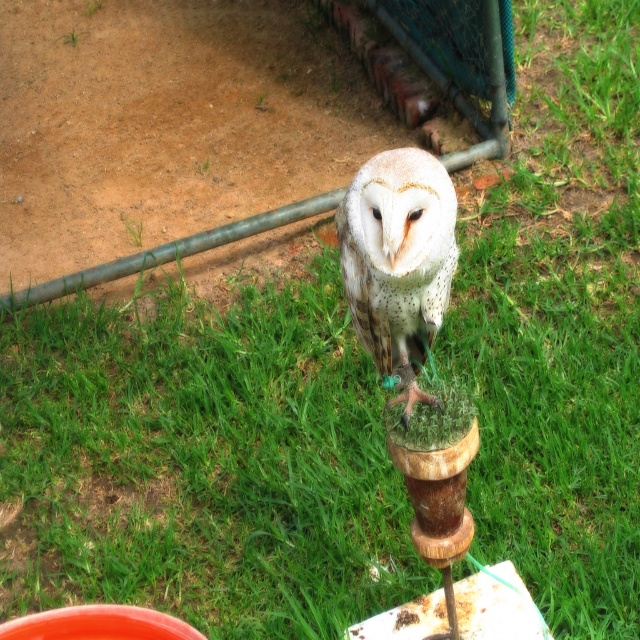Owl: (329, 148, 465, 421)
